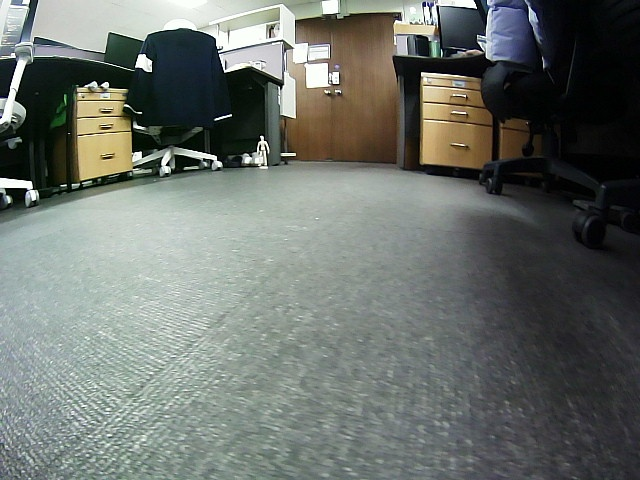person: (256, 135, 269, 166)
